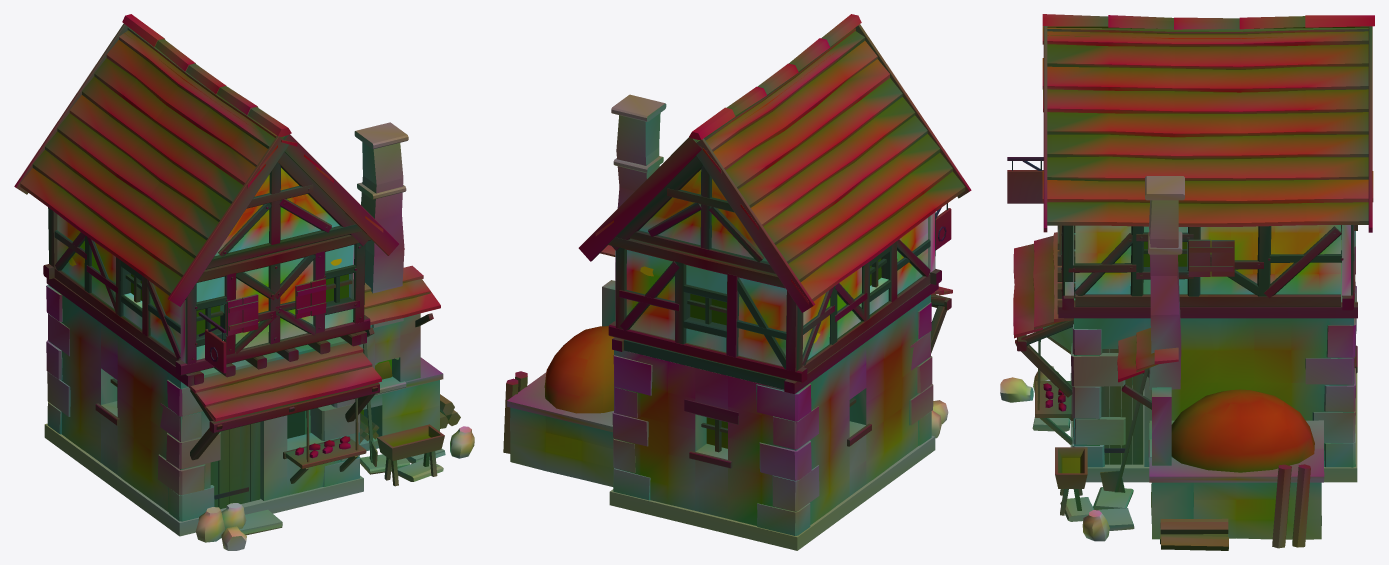
The model's file is bakery.glb.
3 renders of one model, left to right at view 1: azimuth 30°, elevation 25°; view 2: azimuth 150°, elevation 25°; view 3: azimuth 270°, elevation 25°, orthographic. The views are drawn at different scales.
Visible parts, largest first — view 1: bakery_LOD0; view 2: bakery_LOD0; view 3: bakery_LOD0.
Part boxes in pixels (box(x1,y1,x2,y2)): bakery_LOD0: box(14, 14, 474, 550); bakery_LOD0: box(503, 14, 971, 550); bakery_LOD0: box(1000, 14, 1374, 550).
Size of what is drawn, in the model's own units: 3.27 by 3.55 by 2.88.
